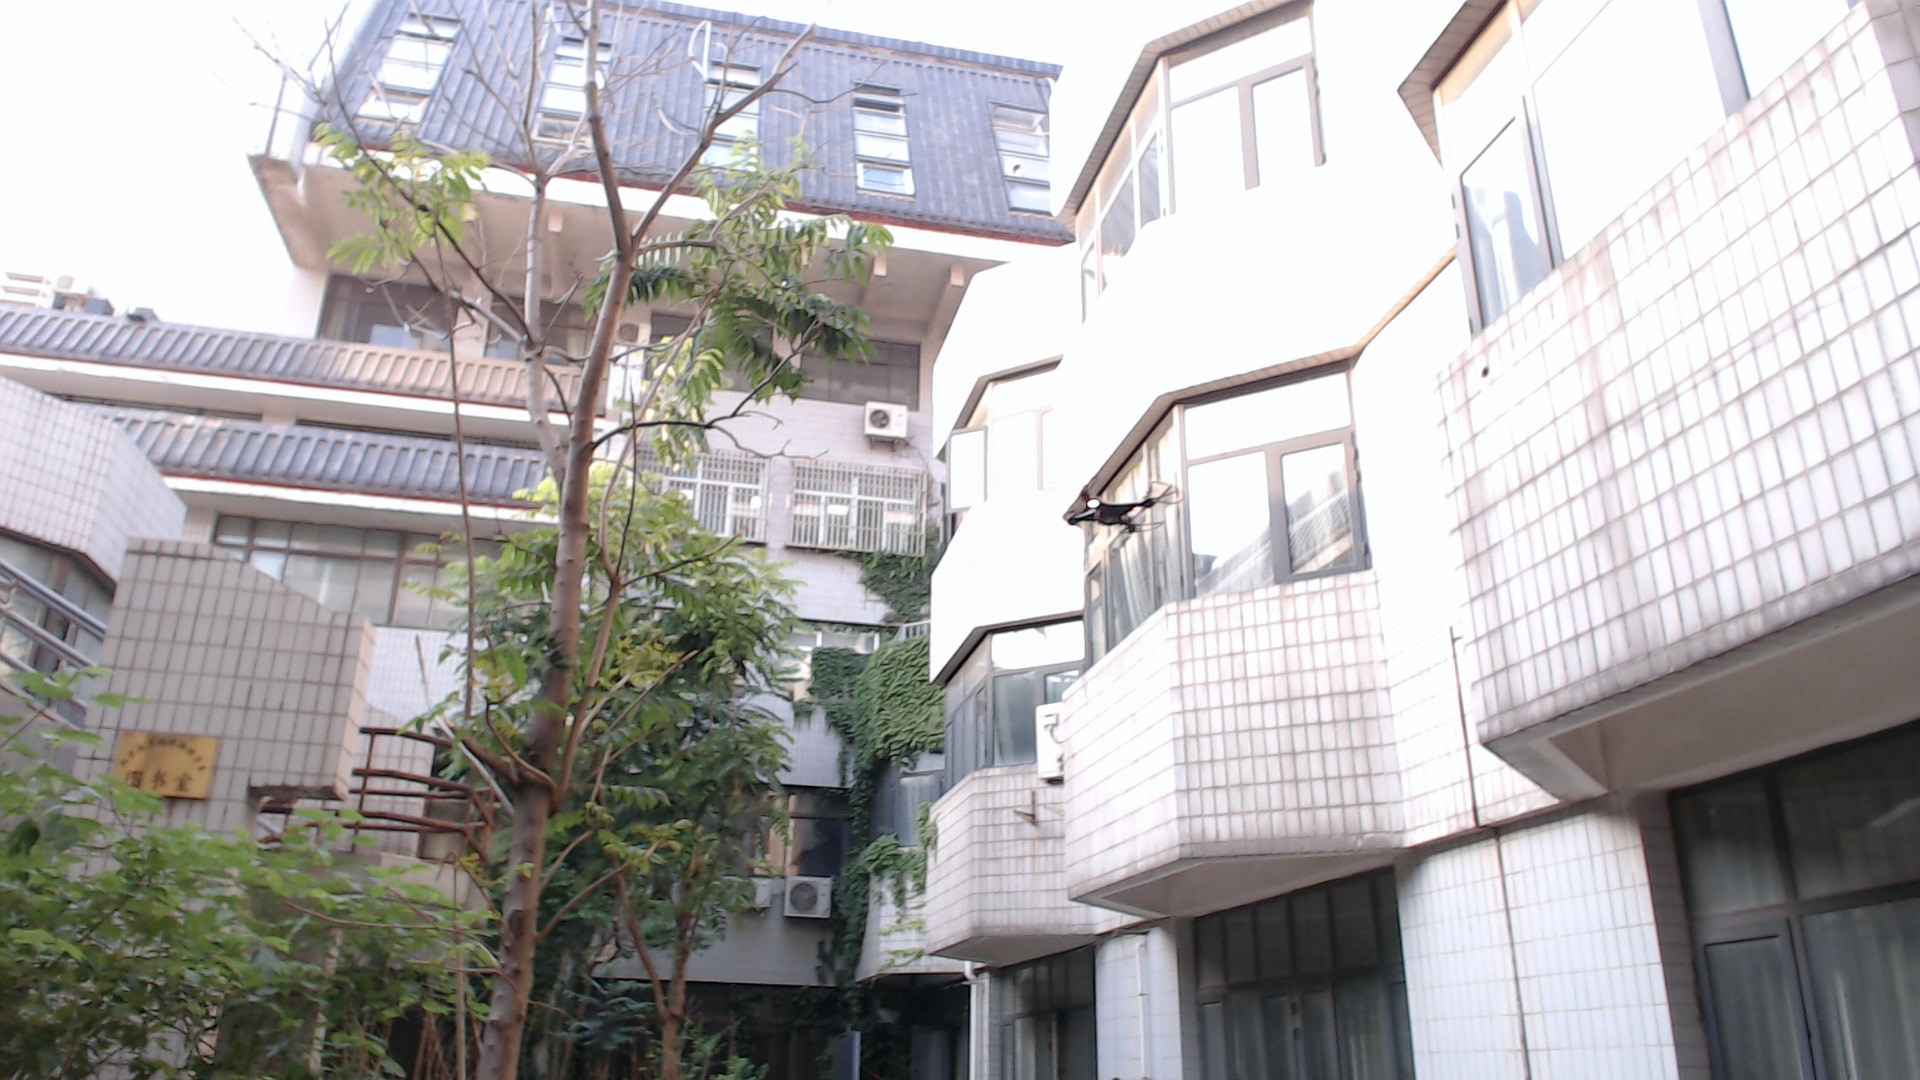drone: (1035, 465, 1195, 559)
